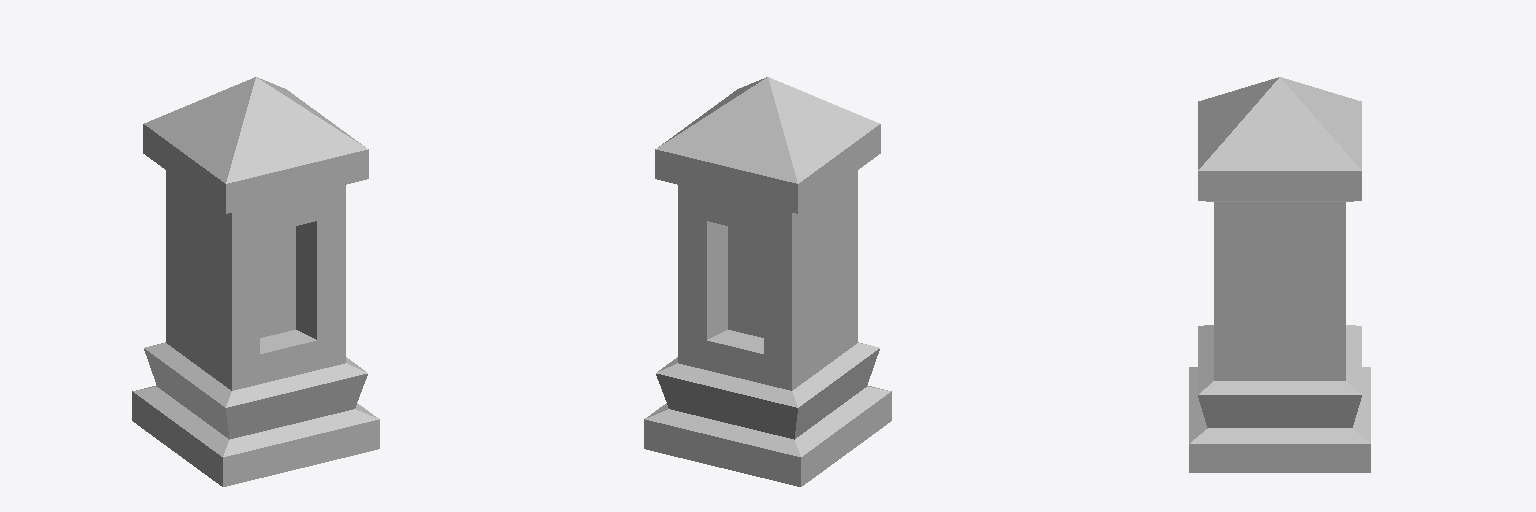
File: shrine.obj
3 renders of one model, left to right at view 1: azimuth 30°, elevation 25°; view 2: azimuth 150°, elevation 25°; view 3: azimuth 270°, elevation 25°, orthographic.
Visible parts, largest first — view 1: shrine_Cube.112; view 2: shrine_Cube.112; view 3: shrine_Cube.112.
Part boxes in pixels (left/top/right/bottom): shrine_Cube.112: left=132, top=77, right=379, bottom=486; shrine_Cube.112: left=644, top=77, right=891, bottom=486; shrine_Cube.112: left=1189, top=77, right=1370, bottom=472.
Size of the model in its own units: 1.1 by 2.4 by 1.1.